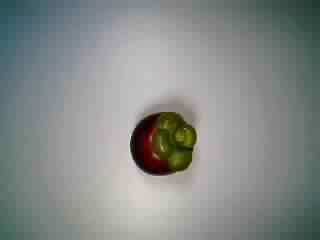mangosteen: (119, 107, 202, 182)
